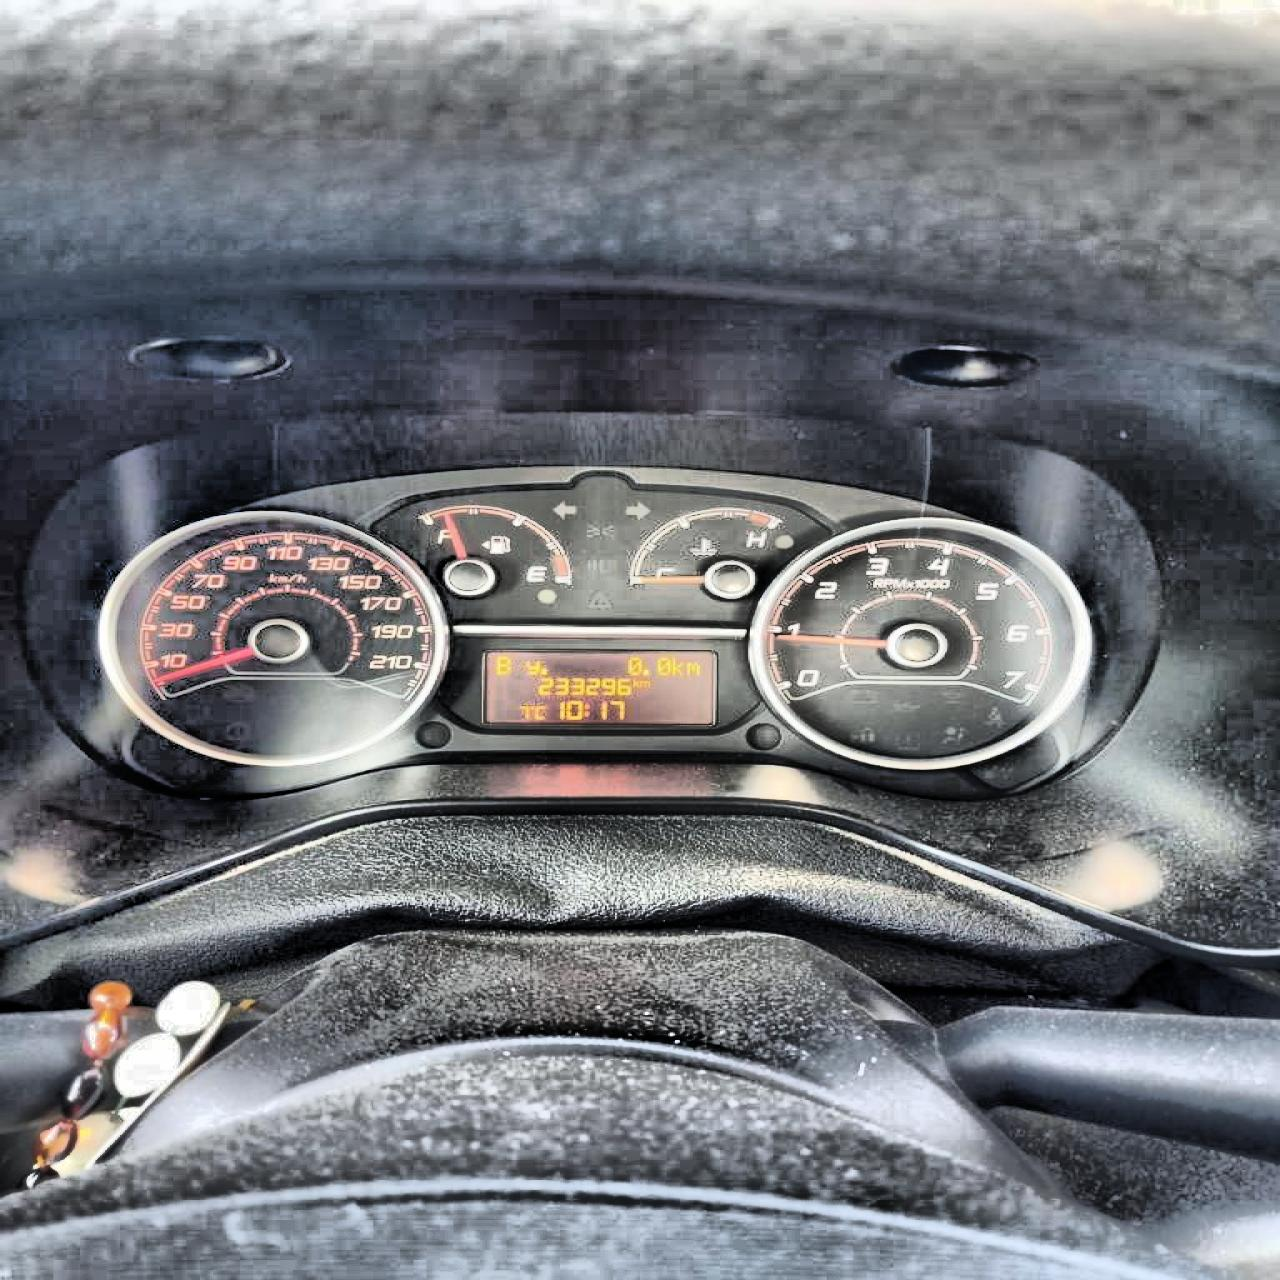-: (538, 666, 546, 675), (641, 667, 648, 675)
0: (565, 699, 581, 719), (625, 655, 640, 675), (655, 656, 670, 676)
1: (598, 700, 607, 719), (557, 700, 564, 719)
2: (584, 676, 599, 695), (537, 676, 551, 695)
3: (552, 676, 568, 695), (568, 676, 584, 695)
6: (615, 676, 629, 695)
7: (607, 699, 624, 719), (518, 703, 529, 717)
9: (600, 678, 615, 695)
X: (493, 654, 512, 674), (683, 660, 700, 675), (524, 658, 538, 675), (670, 656, 682, 676), (532, 703, 545, 719), (581, 702, 588, 716), (629, 678, 639, 688), (639, 679, 648, 688)
odometer: (468, 642, 724, 734)
